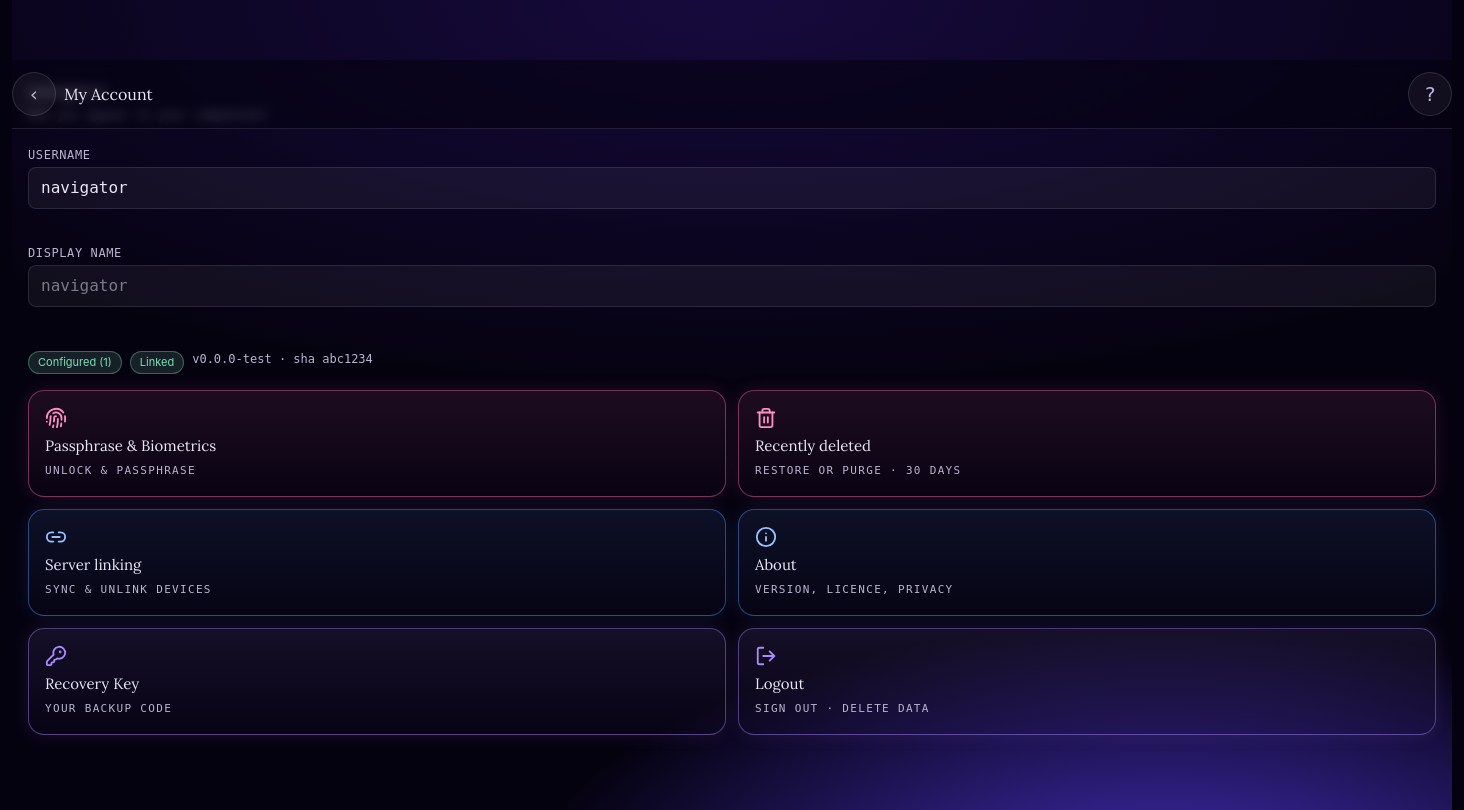
it: AccountPage — username rename across the server link (Defect B) › linked: a network failure surfaces the offline "wasn't changed" copy
This screenshot has width=1464, height=810.
Replace the text in the field labelled "Username" with "offline" at point(732, 188), box left=28, top=167, right=1436, bottom=209
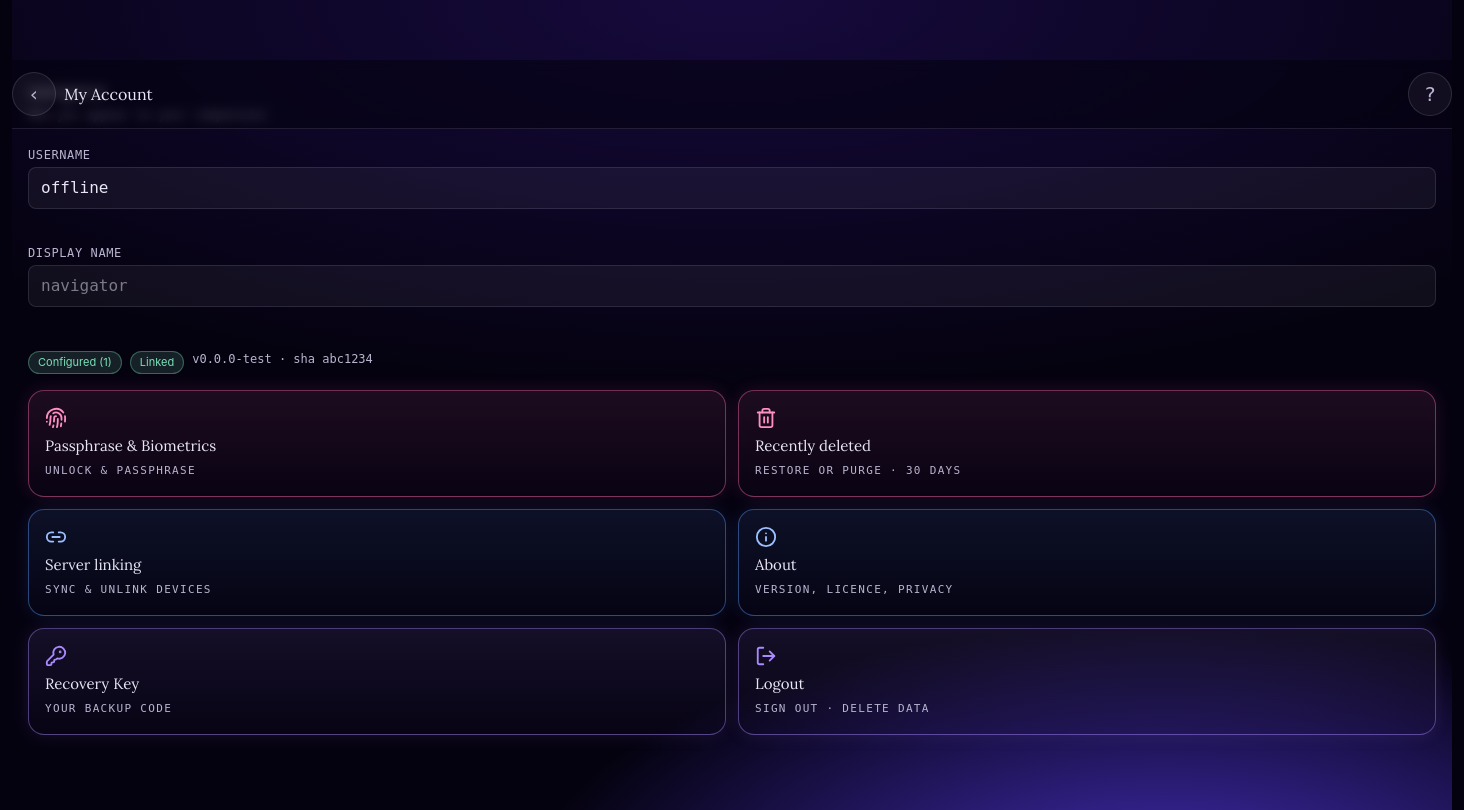
Leave the field labelled "Username", box left=28, top=167, right=1436, bottom=209
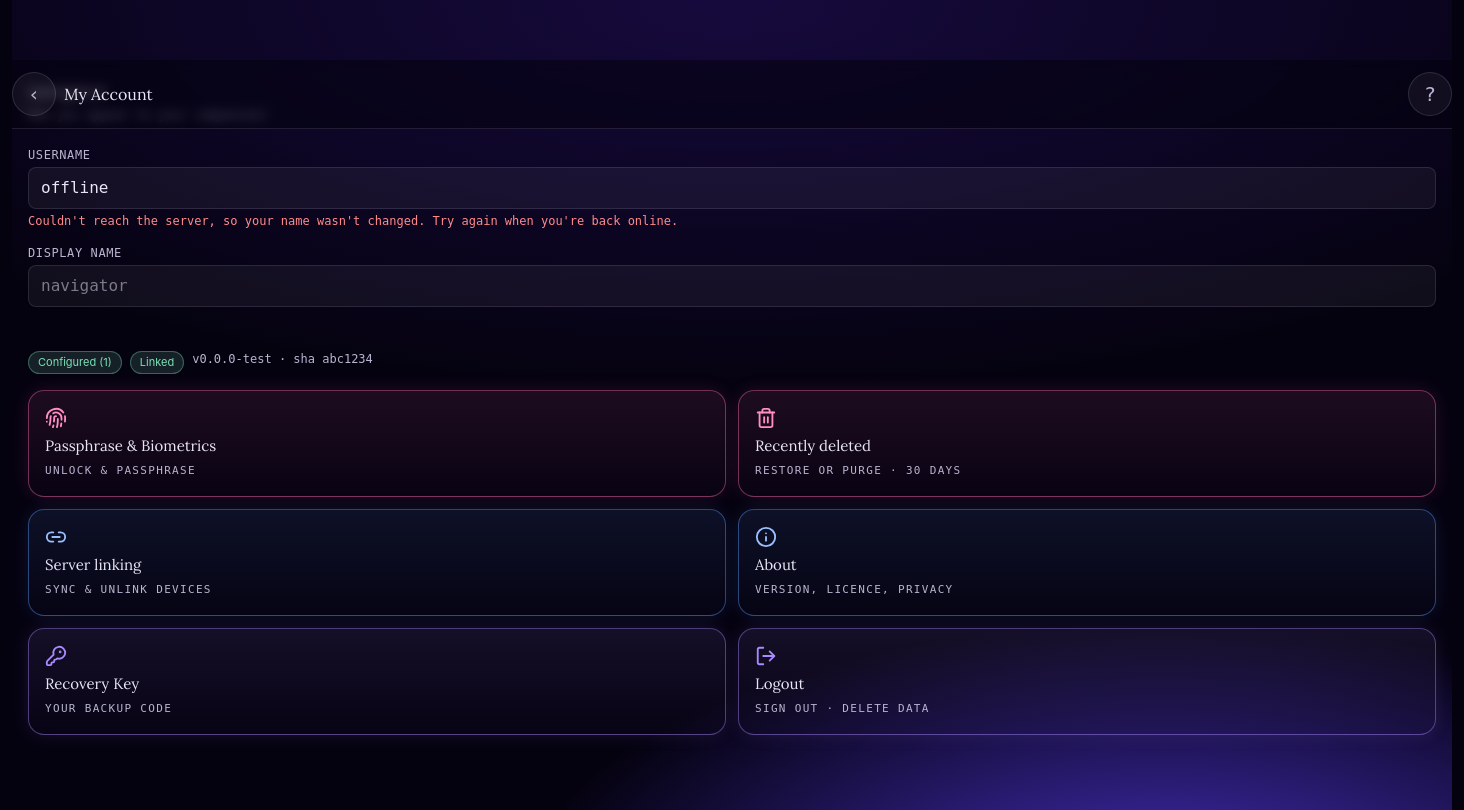
Result: the text "Couldn't reach the server, so your name wasn't changed. Try again when you're back online." is shown at left=28, top=214, right=678, bottom=228
